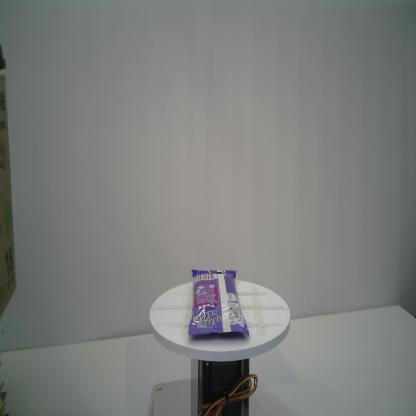Candy: (188, 268, 250, 338)
